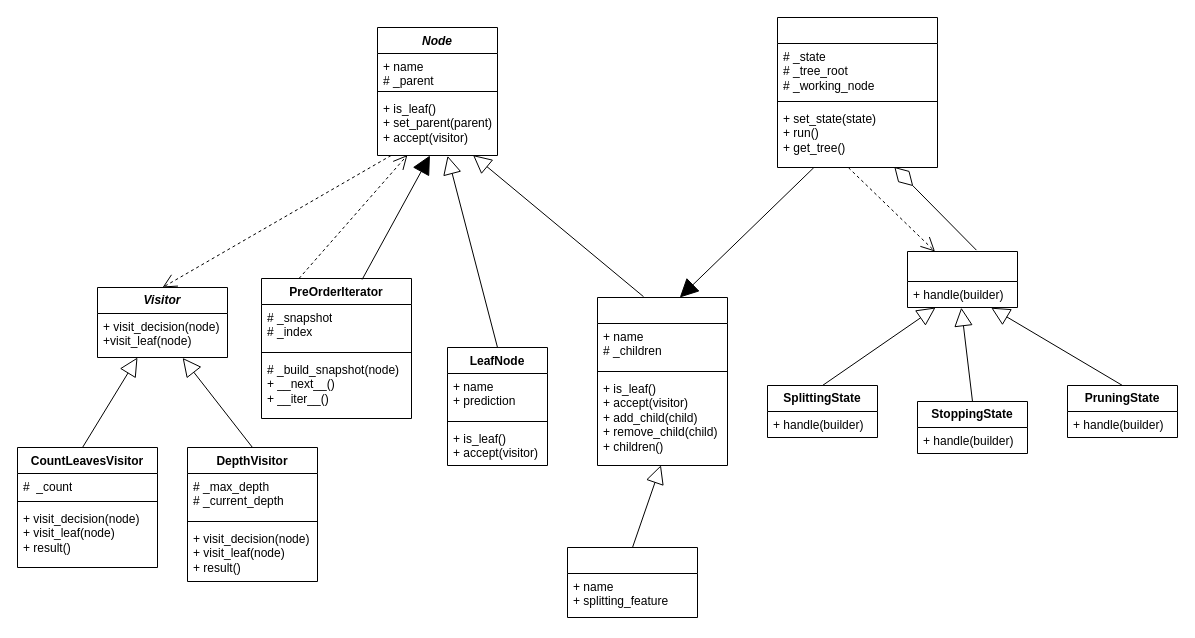
The diagram is 1195 pixels wide and 638 high, and some of its shapes have lost their labels. The box of each missing label's shape, as (x1, y1, x2, y2) in pixels:
BuilderState: (906, 250, 1018, 308)
CompositeNode: (596, 296, 728, 466)
DecisionNode: (566, 546, 698, 618)
TreeBuilder: (776, 16, 938, 168)
